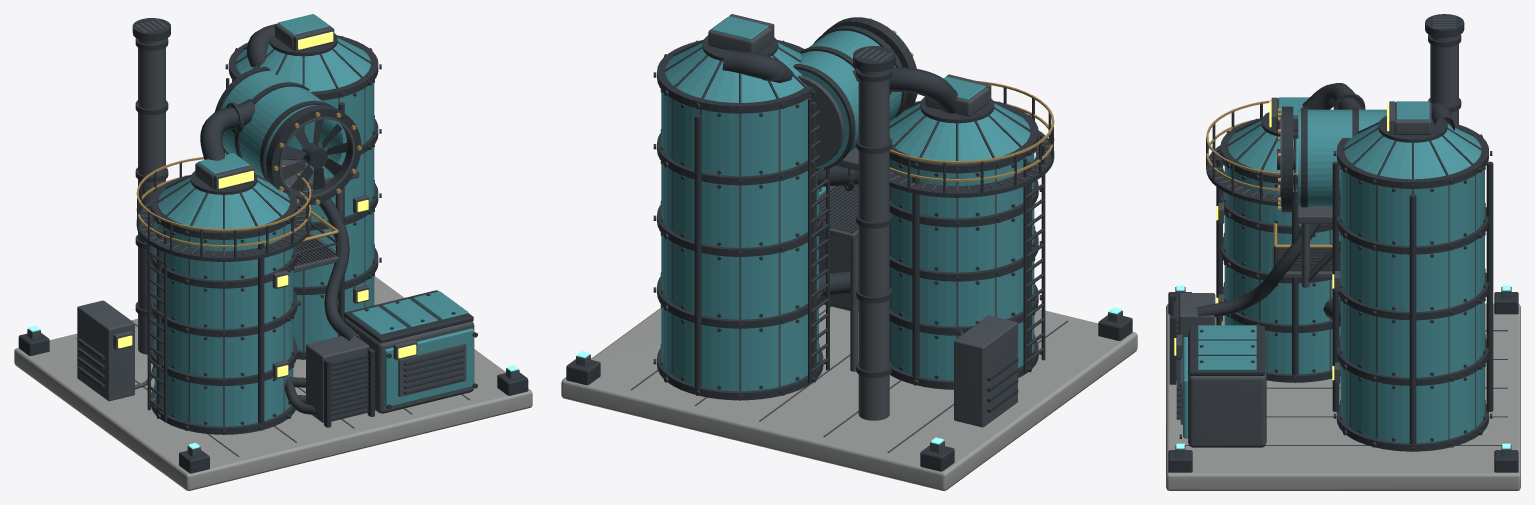
File: refineryUpgraded.glb
3 views of the same model, side by side, from view 1: azimuth 30°, elevation 25°; view 2: azimuth 150°, elevation 25°; view 3: azimuth 270°, elevation 25° (orthographic). The views are drawn at different scales.
Parts seen in each view (by area): view 1: modelRoot:team-primary, modelRoot:neutral-metal, modelRoot:structure, modelRoot:foundation-concrete, rotor-neutral-metal, modelRoot:copper-metal, modelRoot:system-emissive; view 2: modelRoot:team-primary, modelRoot:neutral-metal, modelRoot:foundation-concrete, modelRoot:structure, modelRoot:copper-metal; view 3: modelRoot:team-primary, modelRoot:neutral-metal, modelRoot:foundation-concrete, modelRoot:structure, modelRoot:copper-metal.
Boxes of the visible parts, x1,y1,x2,y2 form: modelRoot:team-primary: (154,14,473,426); modelRoot:neutral-metal: (18,18,528,473); modelRoot:structure: (27,15,519,456); modelRoot:foundation-concrete: (14,276,532,490); rotor-neutral-metal: (281,119,348,192); modelRoot:copper-metal: (136,112,361,336); modelRoot:system-emissive: (118,31,416,377); modelRoot:team-primary: (661,16,1034,391); modelRoot:neutral-metal: (566,17,1132,471); modelRoot:foundation-concrete: (561,304,1137,490); modelRoot:structure: (576,14,1122,452); modelRoot:copper-metal: (870,18,1054,181); modelRoot:team-primary: (1183,97,1484,443); modelRoot:neutral-metal: (1168,14,1518,472); modelRoot:foundation-concrete: (1166,303,1520,490); modelRoot:structure: (1175,16,1511,456); modelRoot:copper-metal: (1206,100,1332,325).
Bounding box in the file's own units: 2.7 × 2.55 × 2.35.
